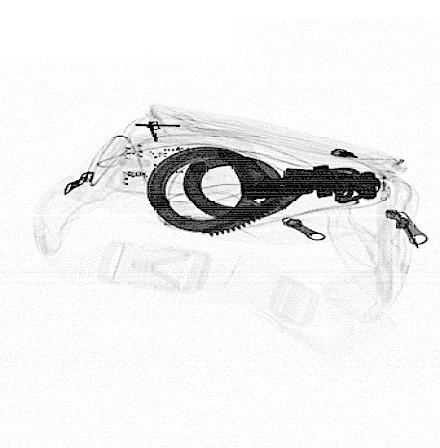HandCuffs: (143, 146, 383, 241)
